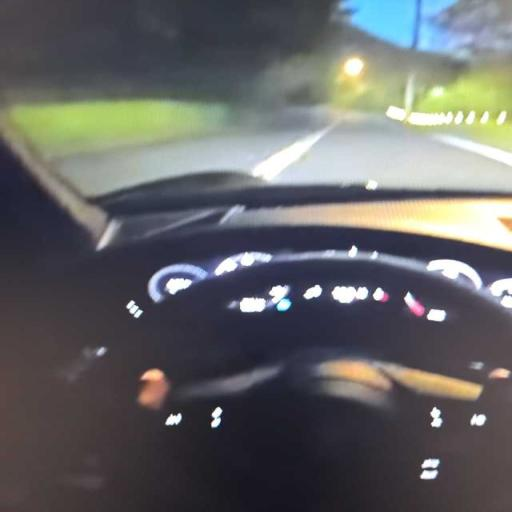car: (0, 0, 511, 511)
lane: (56, 109, 511, 196), (53, 107, 338, 196), (272, 117, 511, 191)
